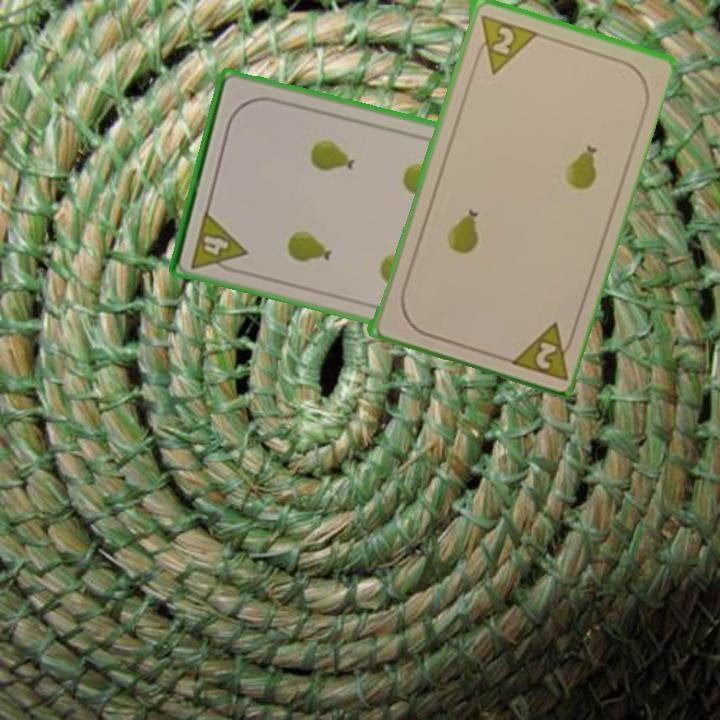2p: (503, 317, 579, 383), (471, 10, 538, 76)
4p: (187, 207, 250, 276)
